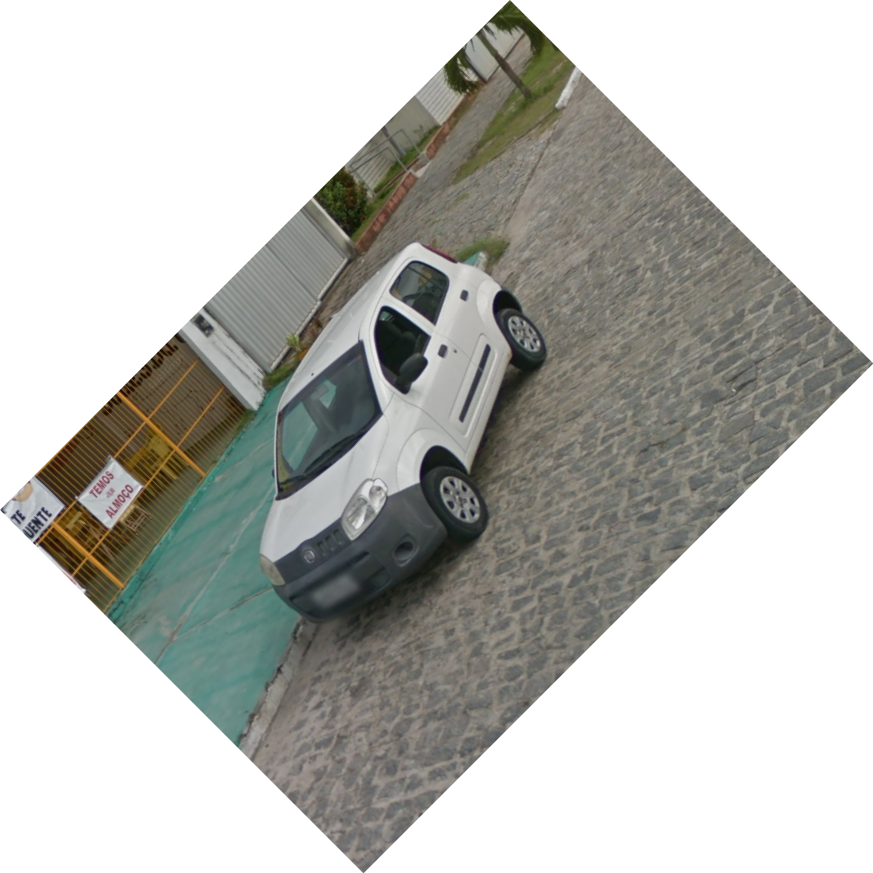car: (259, 238, 550, 628)
